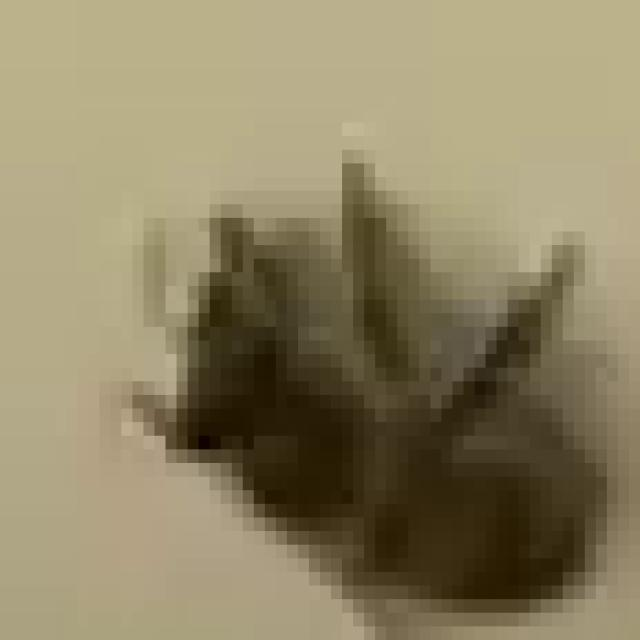honeybee: (86, 145, 609, 586)
